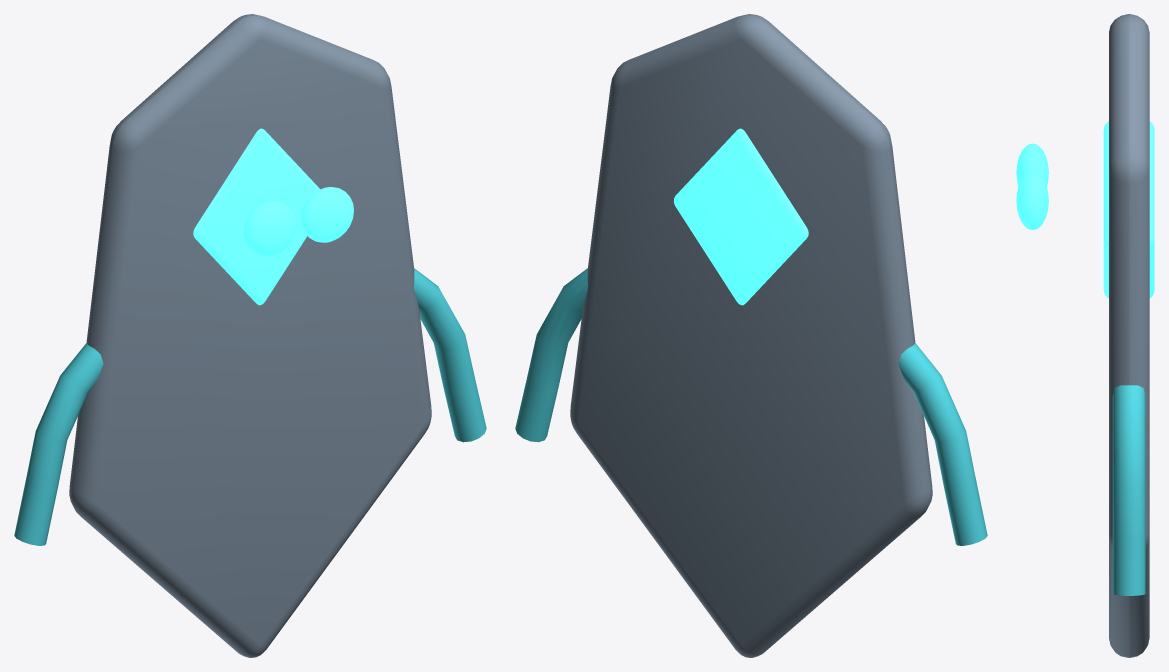
File: wisp_v8.glb
The picture shows the model from 3 angles, left to right: view 1: azimuth 30°, elevation 25°; view 2: azimuth 150°, elevation 25°; view 3: azimuth 270°, elevation 25°; orthographic projection.
Visible parts, largest first — view 1: MIRROR_SHADE_PRIMARY, MIRROR_FACE_EMISSIVE, SHADE_ARM_ACCENT, SHADE_ARM_ACCENT.001, EYE_EMISSIVE.001, EYE_EMISSIVE; view 2: MIRROR_SHADE_PRIMARY, MIRROR_FACE_EMISSIVE, SHADE_ARM_ACCENT, SHADE_ARM_ACCENT.001; view 3: MIRROR_SHADE_PRIMARY, SHADE_ARM_ACCENT.001, MIRROR_FACE_EMISSIVE, EYE_EMISSIVE.001, EYE_EMISSIVE.
Boxes of the visible parts, box(x1,y1,x2,y2) form: MIRROR_SHADE_PRIMARY: box(69, 14, 431, 657); MIRROR_FACE_EMISSIVE: box(193, 128, 320, 305); SHADE_ARM_ACCENT: box(14, 343, 103, 545); SHADE_ARM_ACCENT.001: box(414, 268, 486, 442); EYE_EMISSIVE.001: box(300, 187, 353, 242); EYE_EMISSIVE: box(243, 201, 296, 256); MIRROR_SHADE_PRIMARY: box(570, 14, 932, 657); MIRROR_FACE_EMISSIVE: box(673, 128, 808, 305); SHADE_ARM_ACCENT: box(898, 343, 987, 545); SHADE_ARM_ACCENT.001: box(515, 268, 587, 442); MIRROR_SHADE_PRIMARY: box(1109, 14, 1149, 657); SHADE_ARM_ACCENT.001: box(1112, 385, 1145, 595); MIRROR_FACE_EMISSIVE: box(1103, 121, 1154, 298); EYE_EMISSIVE.001: box(1016, 171, 1048, 229); EYE_EMISSIVE: box(1016, 143, 1048, 186).
Bounding box in the file's own units: 1.66 × 2.17 × 0.4244.
